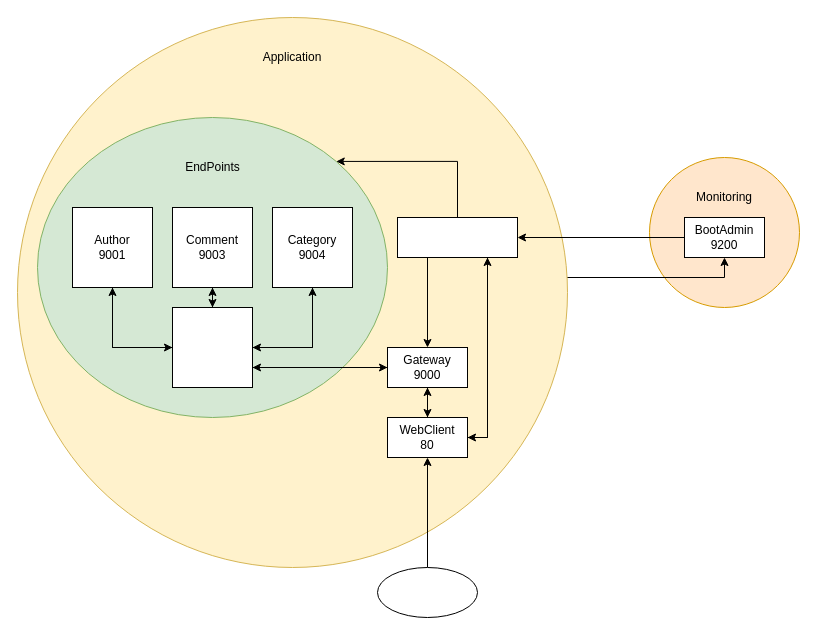
This 817x635 diagram has some shape labels left out. Each missing label, with the centre of its shape:
"Article 9002" goes at pixel 212 347.
"Eureka Server 9100" goes at pixel 457 237.
"User" goes at pixel 427 592.
